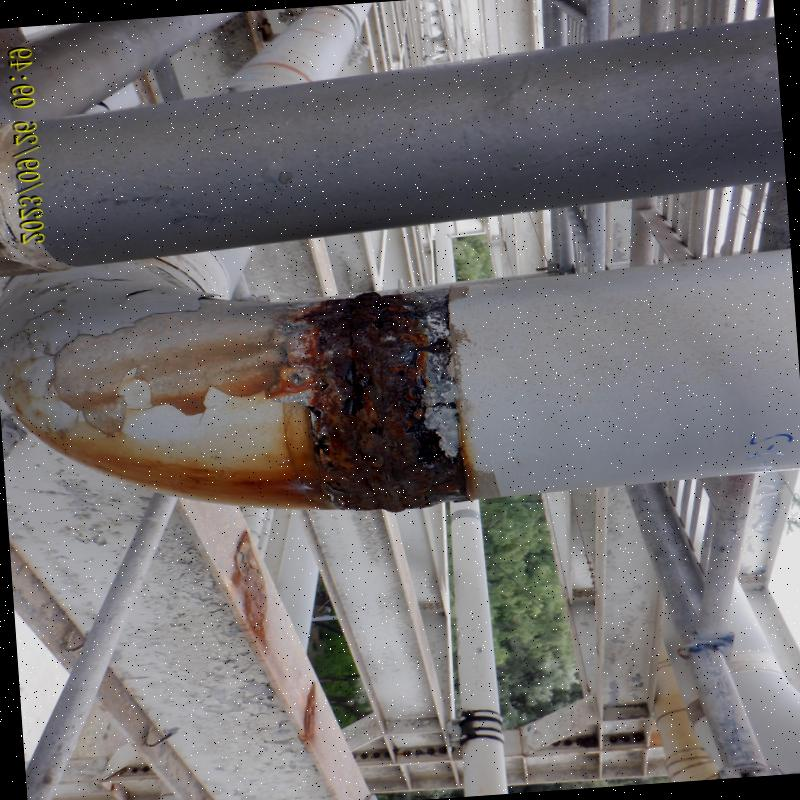corrosion: (297, 286, 462, 513), (149, 435, 286, 508)
